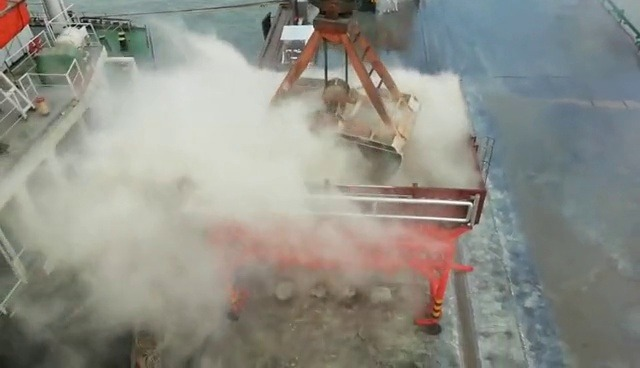dust: (23, 18, 471, 319)
grab: (260, 9, 423, 184)
